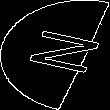N_E: (9, 28, 101, 82)
